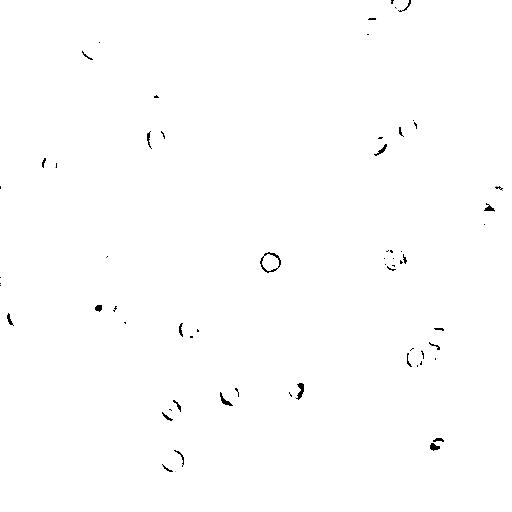micro-algae: (96, 245, 130, 282), (107, 301, 145, 330), (302, 368, 330, 405), (480, 182, 509, 212), (16, 242, 47, 270), (382, 245, 409, 274), (145, 123, 169, 154), (84, 295, 113, 320), (78, 35, 105, 61), (159, 448, 186, 473), (218, 380, 241, 408), (5, 303, 28, 330), (397, 115, 419, 143), (160, 397, 183, 423), (365, 135, 390, 158), (358, 15, 384, 37), (425, 325, 451, 347), (475, 207, 500, 229), (259, 251, 282, 274), (405, 344, 426, 369), (177, 318, 200, 340), (155, 268, 178, 288), (403, 316, 422, 340), (286, 382, 307, 401), (41, 153, 58, 175), (387, 0, 412, 13), (428, 436, 447, 452), (300, 11, 317, 28), (433, 348, 446, 362)
